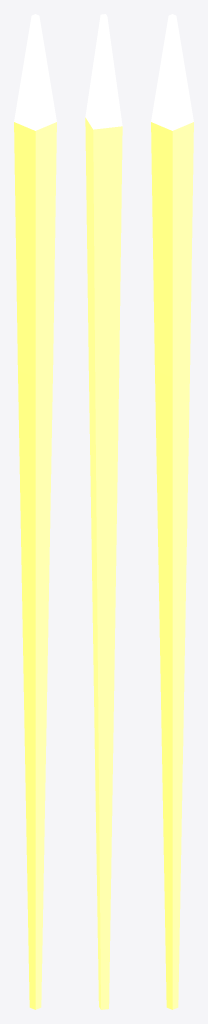
File: vfx_tracer_bullet.glb
The picture shows the model from 3 angles, left to right: view 1: azimuth 90°, elevation 25°; view 2: azimuth 150°, elevation 25°; view 3: azimuth 270°, elevation 25°; orthographic projection.
Visible parts, largest first — view 1: VFX_Tracer_Bullet; view 2: VFX_Tracer_Bullet; view 3: VFX_Tracer_Bullet.
Boxes of the visible parts, x1,y1,x2,y2 form: VFX_Tracer_Bullet: (14,14,56,1009); VFX_Tracer_Bullet: (85,14,122,1009); VFX_Tracer_Bullet: (151,14,193,1009).
Size of the model in its own units: 0.022 by 0.56 by 0.022.
